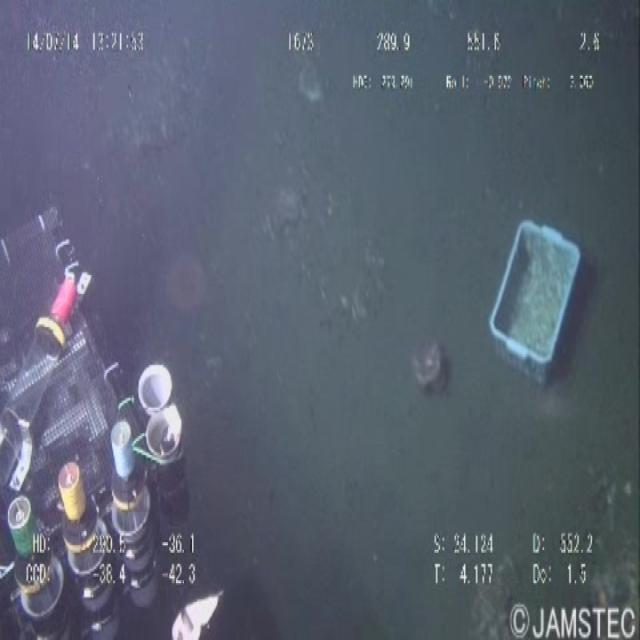Cutlery: (478, 204, 587, 392)
Litter: (406, 328, 460, 418)
